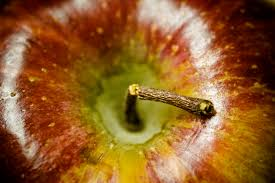damaged_apple: (8, 9, 248, 174)
